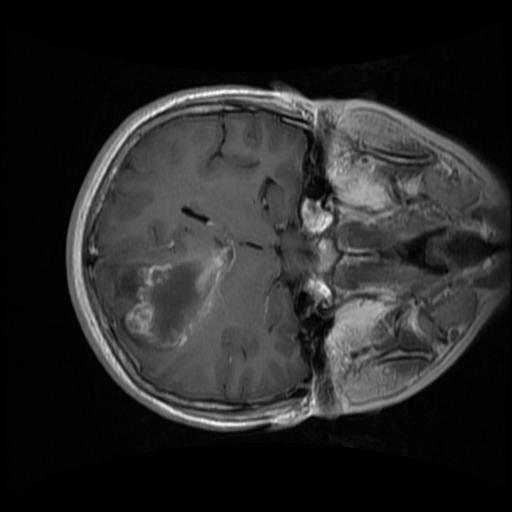glioma: (109, 246, 229, 351)
